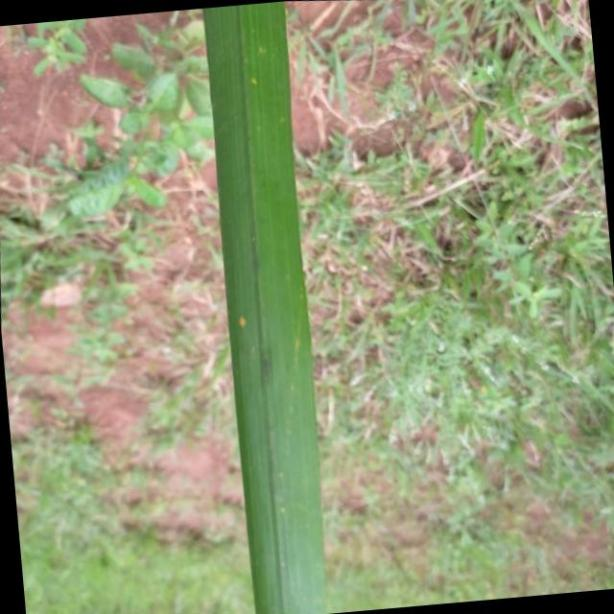Kalium: (204, 0, 336, 614)
